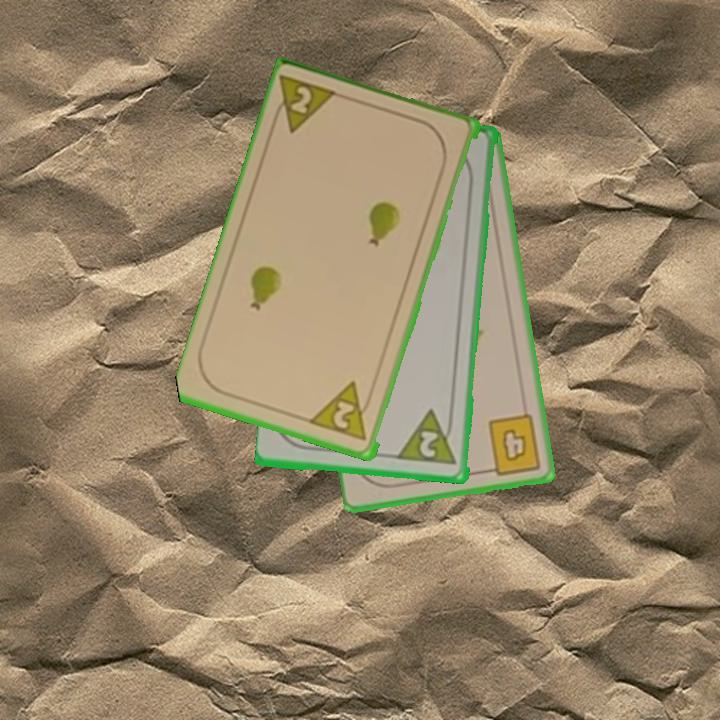2p: (267, 72, 343, 138), (308, 378, 375, 444), (396, 407, 460, 468)
4b: (481, 411, 545, 478)
